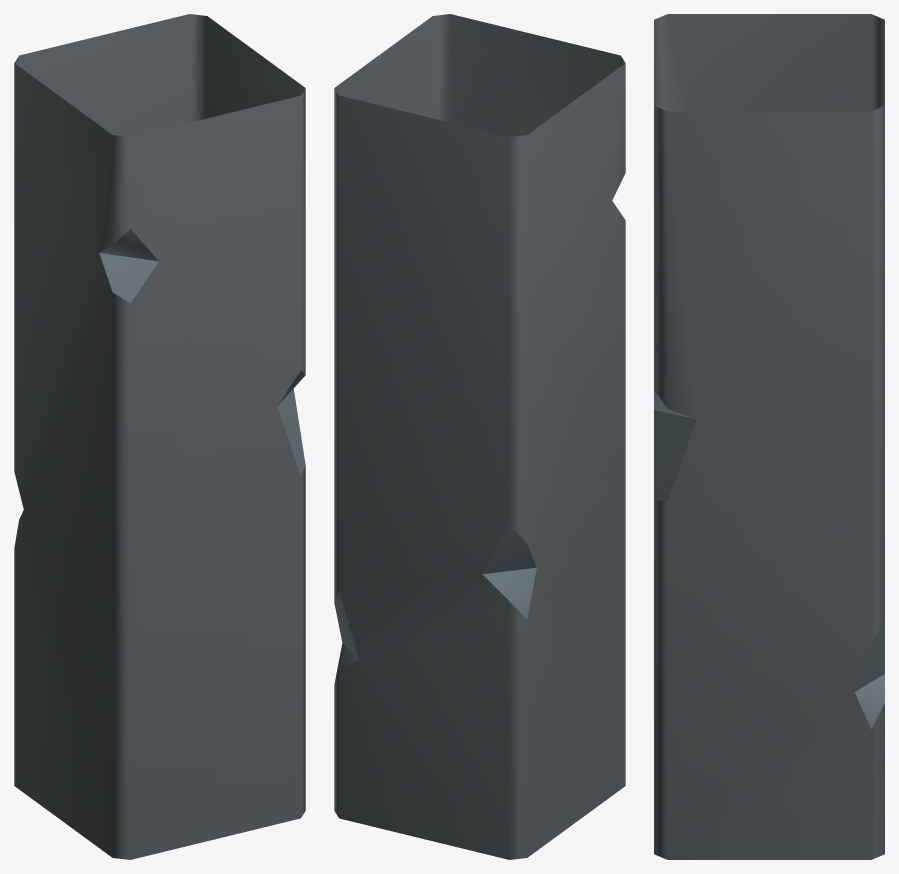
The model's file is pillar_013.glb.
The picture shows the model from 3 angles, left to right: view 1: azimuth 30°, elevation 25°; view 2: azimuth 150°, elevation 25°; view 3: azimuth 270°, elevation 25°; orthographic projection. The views are drawn at different scales.
Visible parts, largest first — view 1: pillar_013; view 2: pillar_013; view 3: pillar_013.
Part boxes in pixels (x1,y1,x2,y2): pillar_013: (14, 14, 305, 859); pillar_013: (334, 14, 625, 859); pillar_013: (654, 14, 884, 859).
Bounding box in the file's own units: 2.79 × 10 × 2.79.
1 material, 1 textured.
